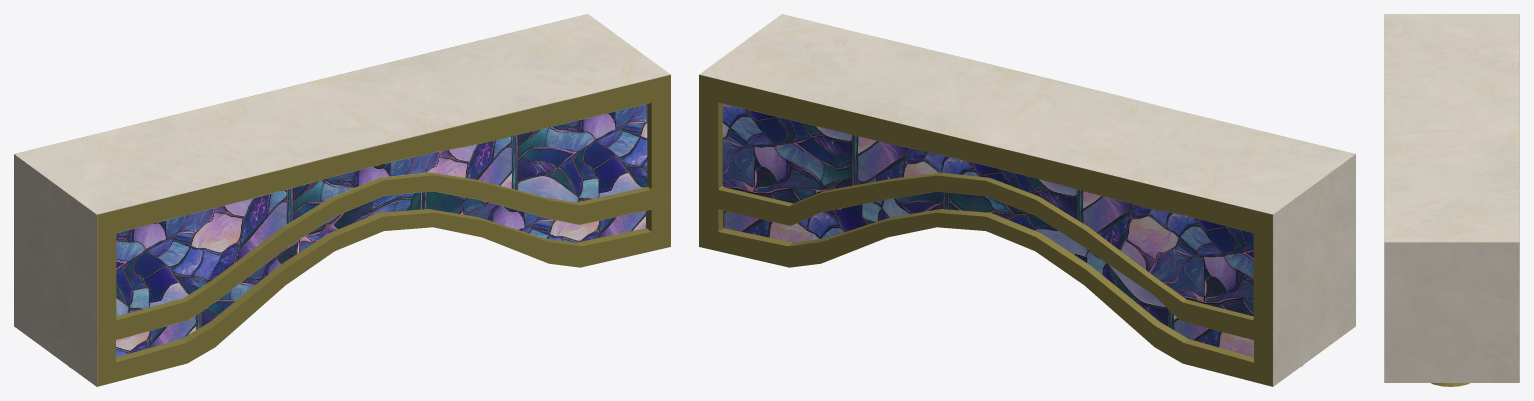
The model's file is archwayTop.glb.
The picture shows the model from 3 angles, left to right: view 1: azimuth 30°, elevation 25°; view 2: azimuth 150°, elevation 25°; view 3: azimuth 270°, elevation 25°; orthographic projection. The views are drawn at different scales.
Parts seen in each view (by area): view 1: archwaywhole.002; view 2: archwaywhole.002; view 3: archwaywhole.002.
Boxes of the visible parts, x1,y1,x2,y2 form: archwaywhole.002: (14,14,670,386); archwaywhole.002: (699,14,1355,386); archwaywhole.002: (1384,14,1519,386).
Bounding box in the file's own units: 2 × 0.6199 × 0.5.
Materials: 3 (3 with a texture image).
